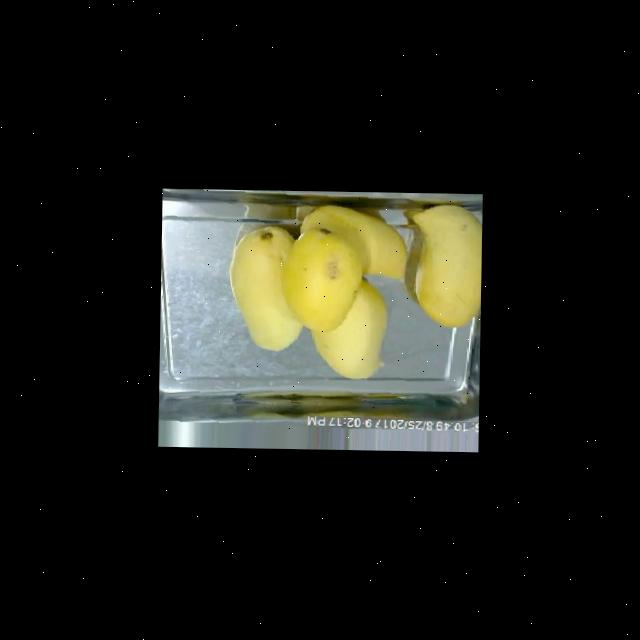Mango: (228, 225, 304, 352), (408, 204, 482, 328), (282, 228, 363, 332), (310, 279, 388, 380)
